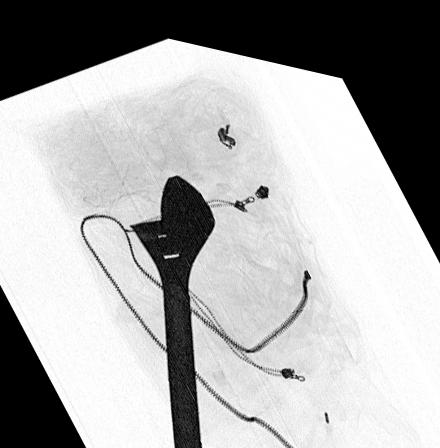Wrench: (129, 165, 213, 448)
